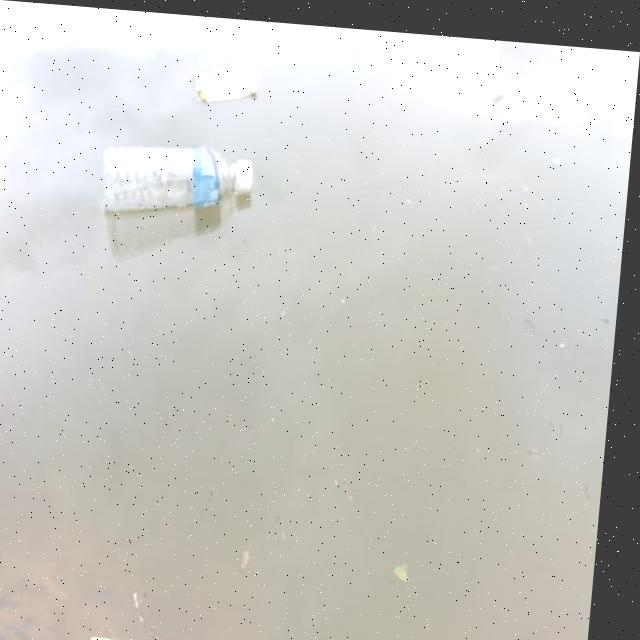paper: (180, 55, 291, 116), (64, 630, 311, 640)
waterbottle: (90, 135, 285, 225)
